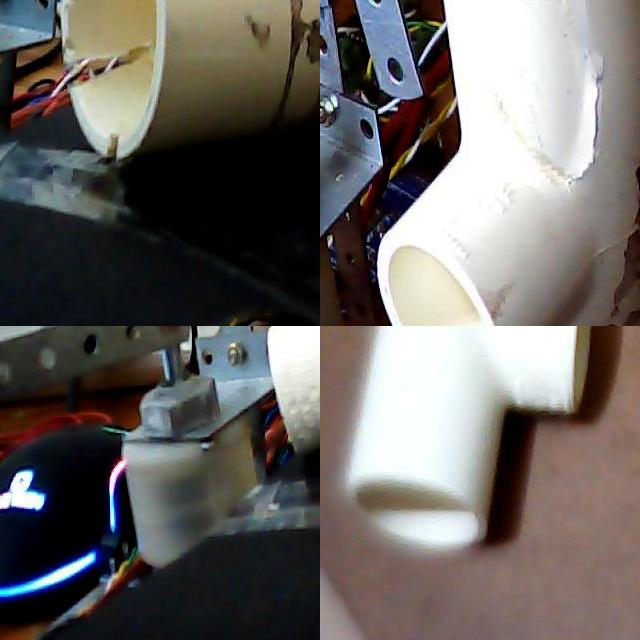Defective: (555, 18, 614, 203), (251, 0, 320, 142), (600, 99, 640, 326), (64, 40, 160, 112), (605, 172, 640, 326), (98, 120, 136, 170), (593, 77, 601, 149), (563, 90, 576, 107)
T Joint: (350, 326, 593, 551)
